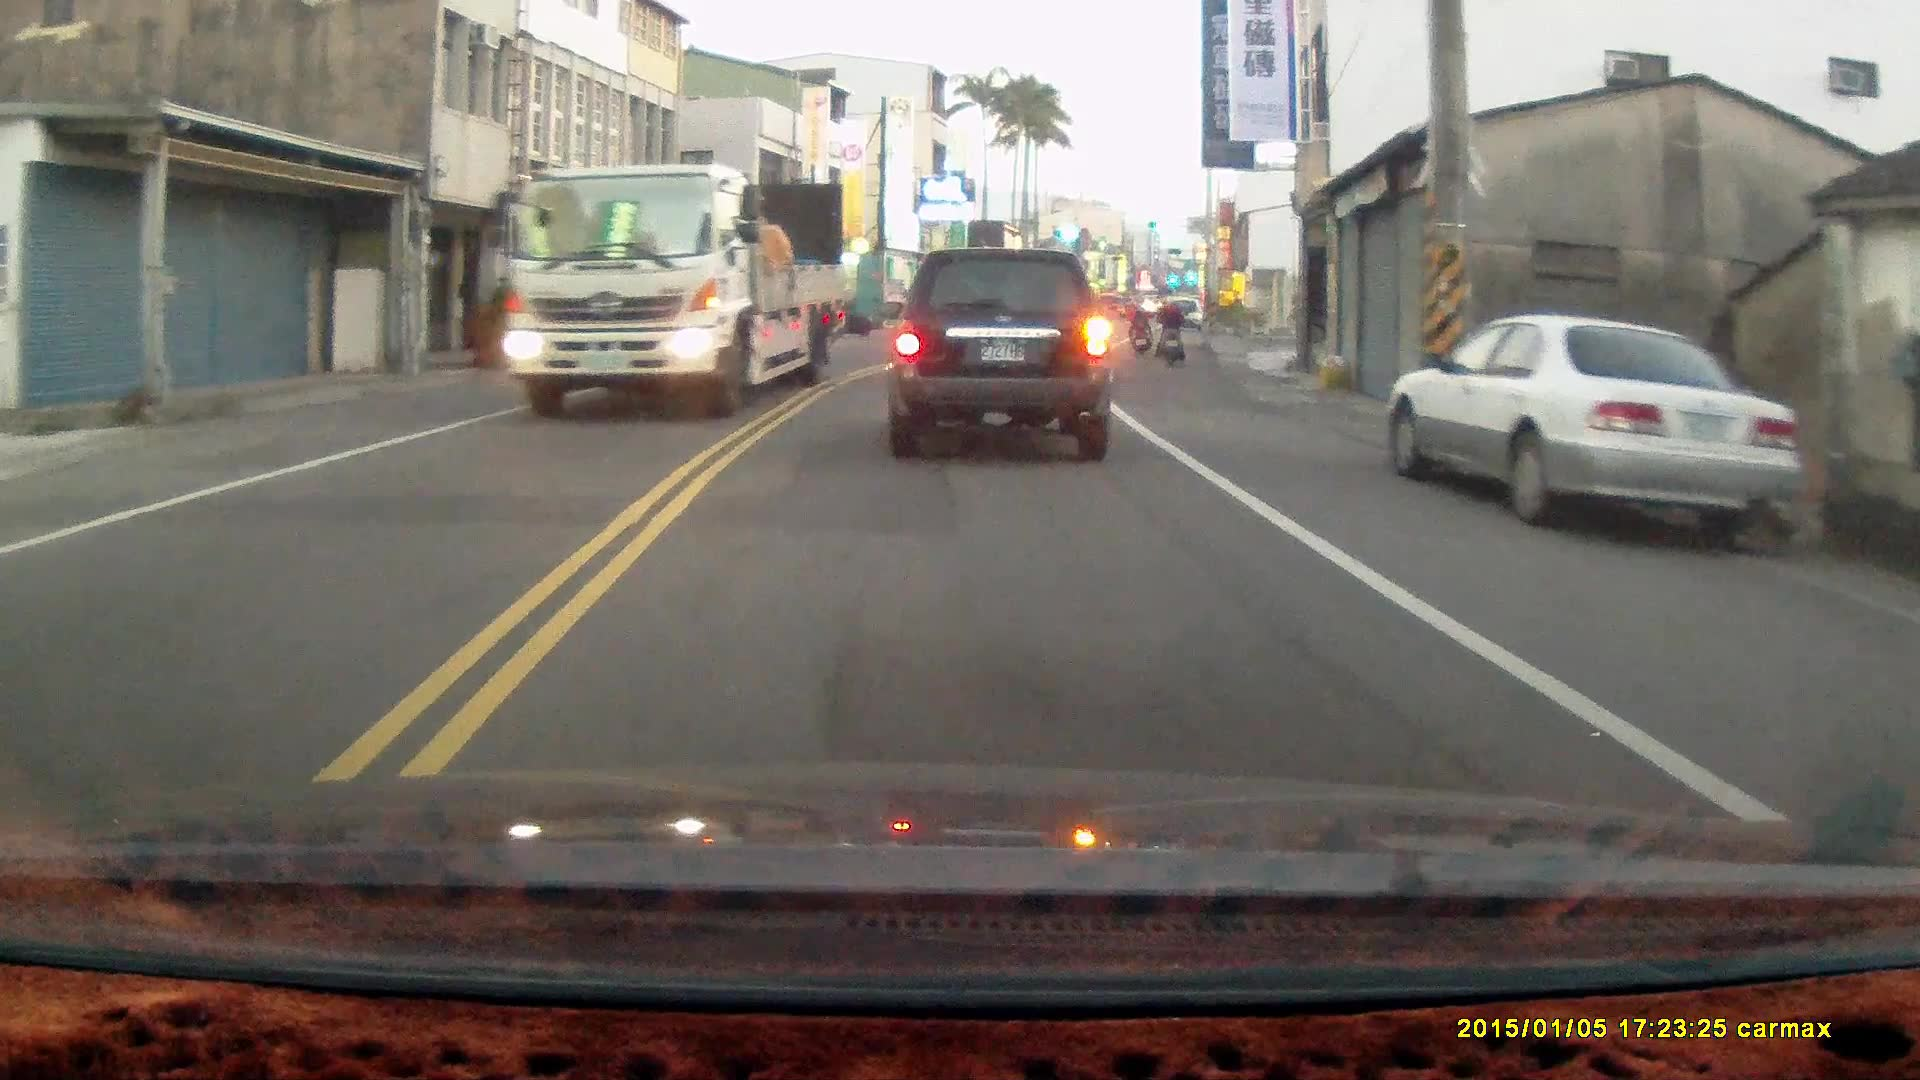rider: (1154, 292, 1185, 371), (1124, 296, 1148, 357)
vehicle: (1384, 312, 1802, 550), (501, 166, 848, 409), (891, 245, 1118, 457)
